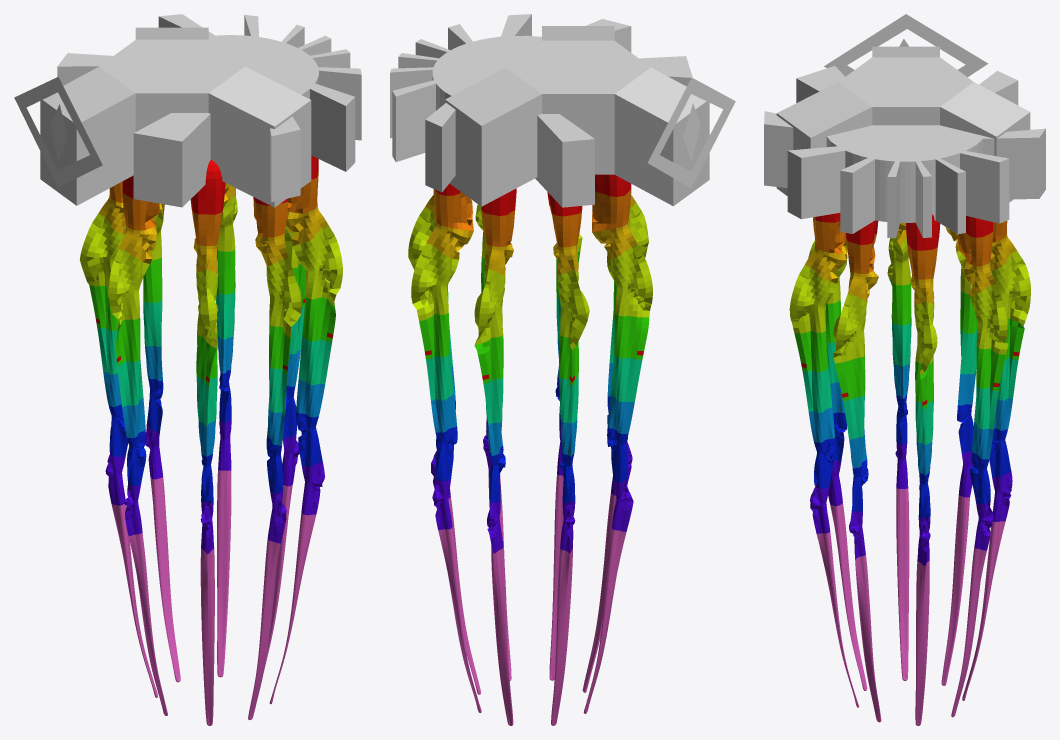
Rendered from rainbowSprut.fbx.
The picture shows the model from 3 angles, left to right: view 1: azimuth 30°, elevation 25°; view 2: azimuth 150°, elevation 25°; view 3: azimuth 270°, elevation 25°; orthographic projection. The views are drawn at different scales.
Visible parts, largest first — view 1: Cube, Cylinder, Cylinder.001, Plane.001; view 2: Cube, Cylinder, Cylinder.001, Plane.001; view 3: Cube, Cylinder.001, Cylinder, Plane.001.
Part boxes in pixels (left/top/right/bottom): Cube: left=79, top=155, right=342, bottom=725; Cylinder: left=40, top=27, right=311, bottom=207; Cylinder.001: left=57, top=14, right=361, bottom=207; Plane.001: left=14, top=76, right=102, bottom=187; Cube: left=408, top=174, right=652, bottom=725; Cylinder: left=445, top=26, right=709, bottom=206; Cylinder.001: left=390, top=14, right=692, bottom=207; Plane.001: left=647, top=77, right=735, bottom=188; Cube: left=789, top=213, right=1030, bottom=725; Cylinder.001: left=764, top=66, right=1045, bottom=238; Cylinder: left=776, top=46, right=1030, bottom=202; Plane.001: left=824, top=14, right=988, bottom=77.
Size of the model in its own units: 368 by 828 by 342.
